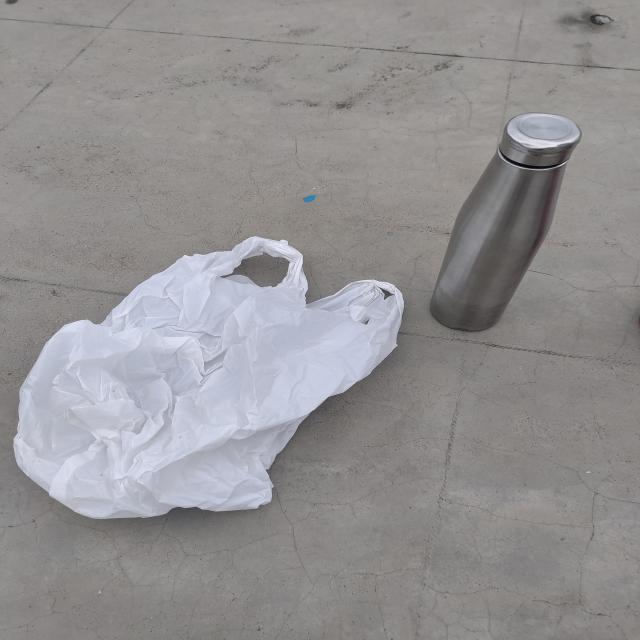dry: (2, 205, 416, 543), (423, 93, 615, 348)
